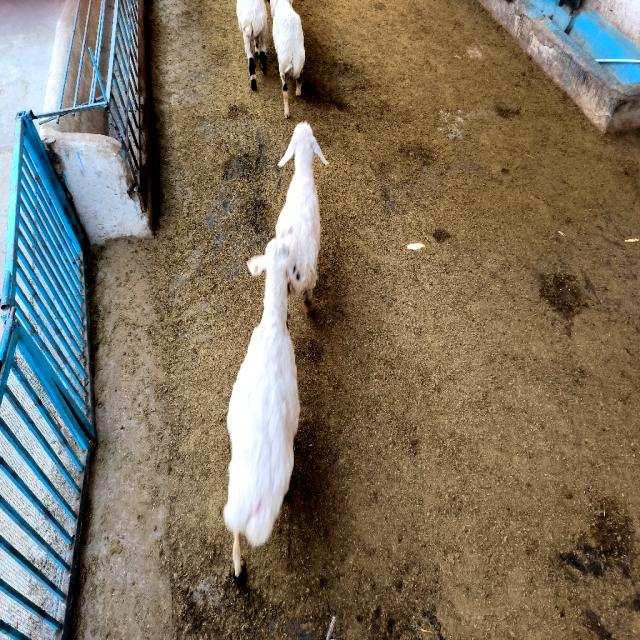sheep: (224, 238, 300, 576), (276, 122, 328, 312), (271, 0, 305, 118), (236, 0, 268, 91)
